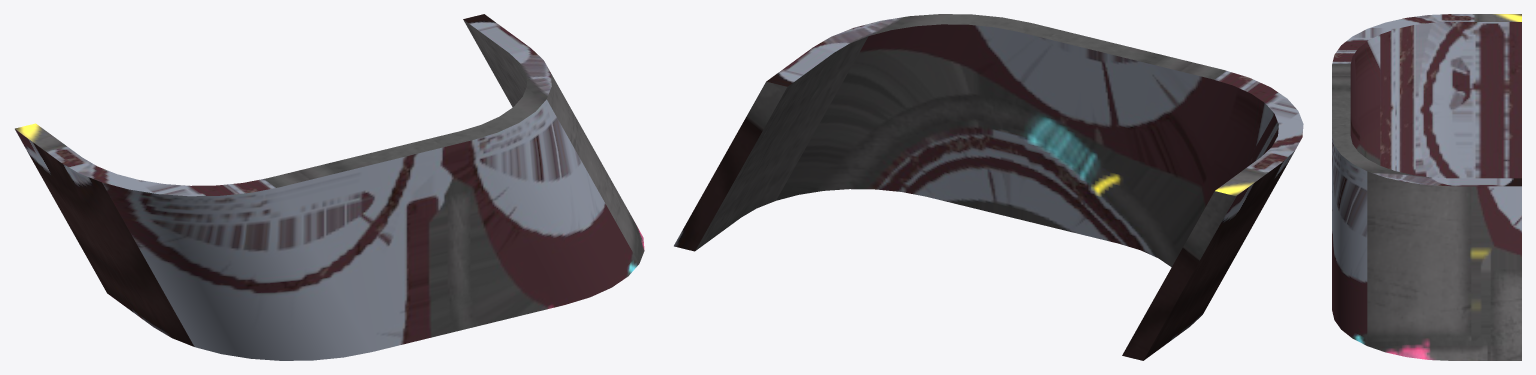
The model's file is duct_vert_lean_R.fbx.
The picture shows the model from 3 angles, left to right: view 1: azimuth 30°, elevation 25°; view 2: azimuth 150°, elevation 25°; view 3: azimuth 270°, elevation 25°; orthographic projection. The views are drawn at different scales.
Parts seen in each view (by area): view 1: duct_vert_02.002; view 2: duct_vert_02.002; view 3: duct_vert_02.002.
Boxes of the visible parts, <box> form: duct_vert_02.002: <box>15,14,644,360</box>; duct_vert_02.002: <box>674,14,1303,360</box>; duct_vert_02.002: <box>1332,14,1521,360</box>.
Size of the model in its own units: 5581 by 1776 by 2171.
